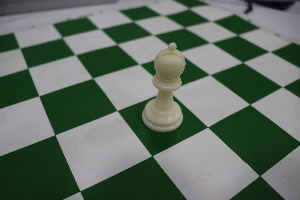white_bishop: (143, 32, 194, 139)
